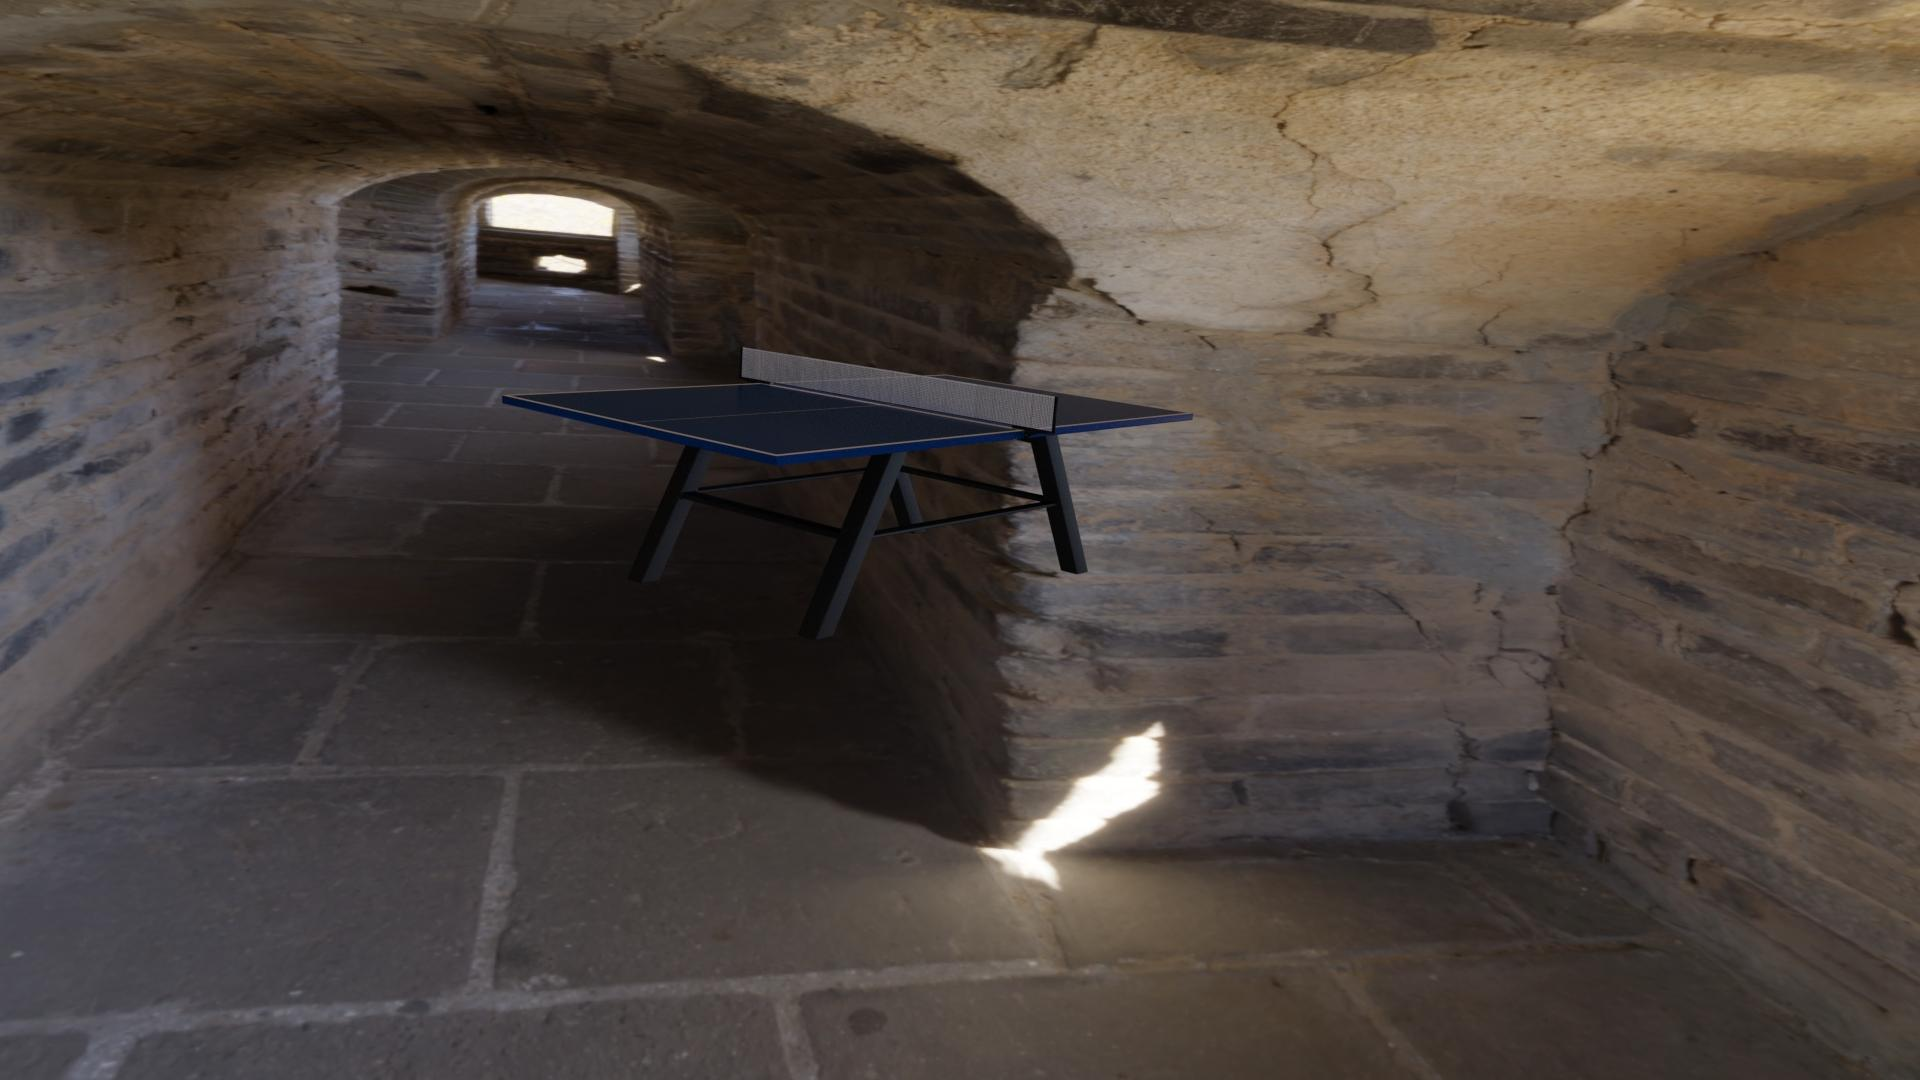table: (509, 376, 1188, 455)
